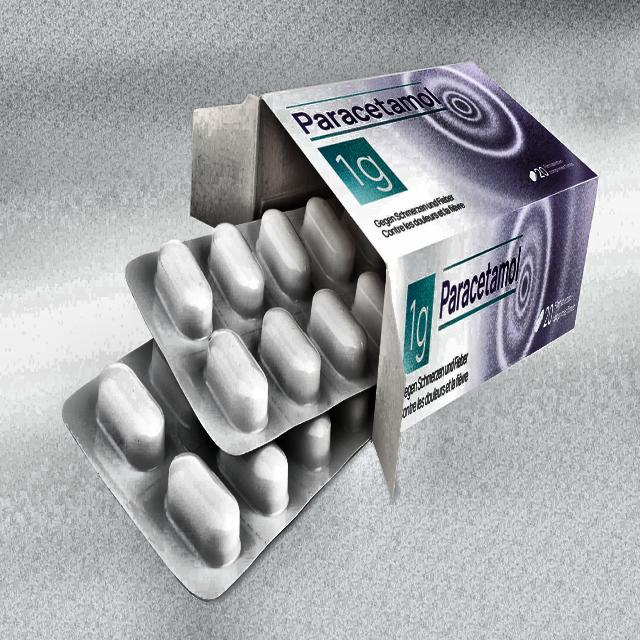Paracetamol: (287, 71, 452, 146)
